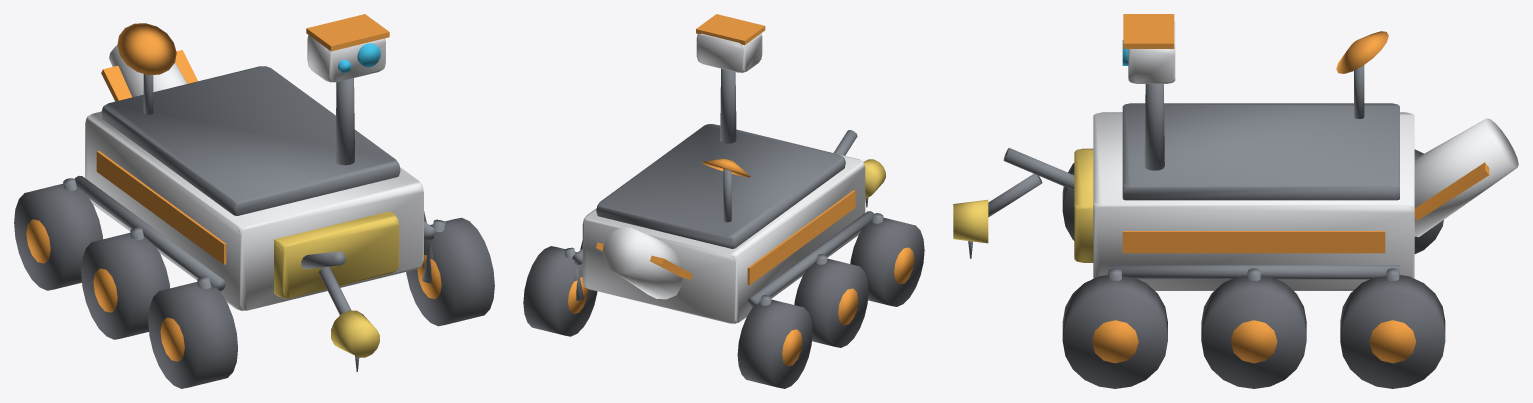
Rendered from mars-rover.glb.
The picture shows the model from 3 angles, left to right: view 1: azimuth 30°, elevation 25°; view 2: azimuth 150°, elevation 25°; view 3: azimuth 270°, elevation 25°; orthographic projection. The views are drawn at different scales.
Visible parts, largest first — view 1: Rover_Upper_Deck, Rover_Chassis_Body, Rover_Thermal_Front_Box, Rover_Wheel_FL, Rover_Wheel_RL, Rover_Wheel_ML, Rover_Wheel_FR, Rover_Stripe_Left, Suspension_Main_Arm_L, Rover_HighGain_Dish, SuperCam_Head_Unit, SuperCam_Top_Visor_Cap (+12 smaller); view 2: Rover_Upper_Deck, Rover_Chassis_Body, Rover_Wheel_RL, Rover_Wheel_ML, Rover_Wheel_FL, Rover_Wheel_RR, Rover_MMRTG_Core, Rover_Stripe_Left, SuperCam_Head_Unit, Suspension_Main_Arm_L, SuperCam_Top_Visor_Cap, SuperCam_Mast_Neck (+8 smaller); view 3: Rover_Upper_Deck, Rover_Chassis_Body, Rover_Wheel_RR, Rover_Wheel_FR, Rover_Wheel_MR, Rover_Stripe_Right, Rover_MMRTG_Core, Suspension_Main_Arm_R, Rover_Thermal_Front_Box, SuperCam_Top_Visor_Cap, SuperCam_Head_Unit, SuperCam_Mast_Neck (+11 smaller).
Boxes of the visible parts, x1,y1,x2,y2 form: Rover_Upper_Deck: (101,66,400,215); Rover_Chassis_Body: (85,111,423,310); Rover_Thermal_Front_Box: (274,211,399,298); Rover_Wheel_FL: (148,282,237,388); Rover_Wheel_RL: (14,183,102,290); Rover_Wheel_ML: (81,233,169,339); Rover_Wheel_FR: (406,217,494,326); Rover_Stripe_Left: (96,151,226,264); Suspension_Main_Arm_L: (74,176,225,291); Rover_HighGain_Dish: (117,23,176,75); SuperCam_Head_Unit: (307,35,385,82); SuperCam_Top_Visor_Cap: (306,14,389,51); Rover_Upper_Deck: (596,124,845,248); Rover_Chassis_Body: (582,125,865,323); Rover_Wheel_RL: (737,299,812,388); Rover_Wheel_ML: (794,258,868,347); Rover_Wheel_FL: (850,218,924,306); Rover_Wheel_RR: (523,246,597,336); Rover_MMRTG_Core: (602,227,682,299); Rover_Stripe_Left: (747,190,855,285); SuperCam_Head_Unit: (696,33,762,72); Suspension_Main_Arm_L: (748,211,873,307); SuperCam_Top_Visor_Cap: (696,14,765,45); SuperCam_Mast_Neck: (720,68,736,143); Rover_Upper_Deck: (1122,103,1399,200); Rover_Chassis_Body: (1093,112,1414,290); Rover_Wheel_RR: (1340,275,1445,388); Rover_Wheel_FR: (1062,275,1167,388); Rover_Wheel_MR: (1201,276,1306,388); Rover_Stripe_Right: (1122,231,1385,253); Rover_MMRTG_Core: (1414,118,1518,237); Suspension_Main_Arm_R: (1108,265,1399,279); Rover_Thermal_Front_Box: (1074,148,1093,262); SuperCam_Top_Visor_Cap: (1123,14,1174,48); SuperCam_Head_Unit: (1128,21,1175,83); SuperCam_Mast_Neck: (1144,84,1164,170).
Size of the model in its own units: 2.45 by 2.32 by 3.87.
